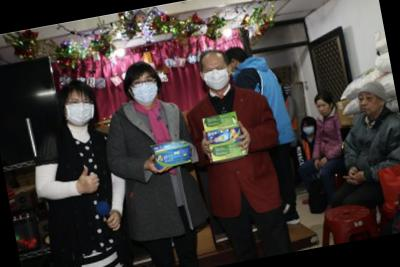with_mask: (64, 95, 98, 128), (129, 75, 161, 106), (203, 63, 230, 92), (304, 123, 317, 137)
without_mask: (359, 93, 384, 117), (317, 101, 333, 118)
